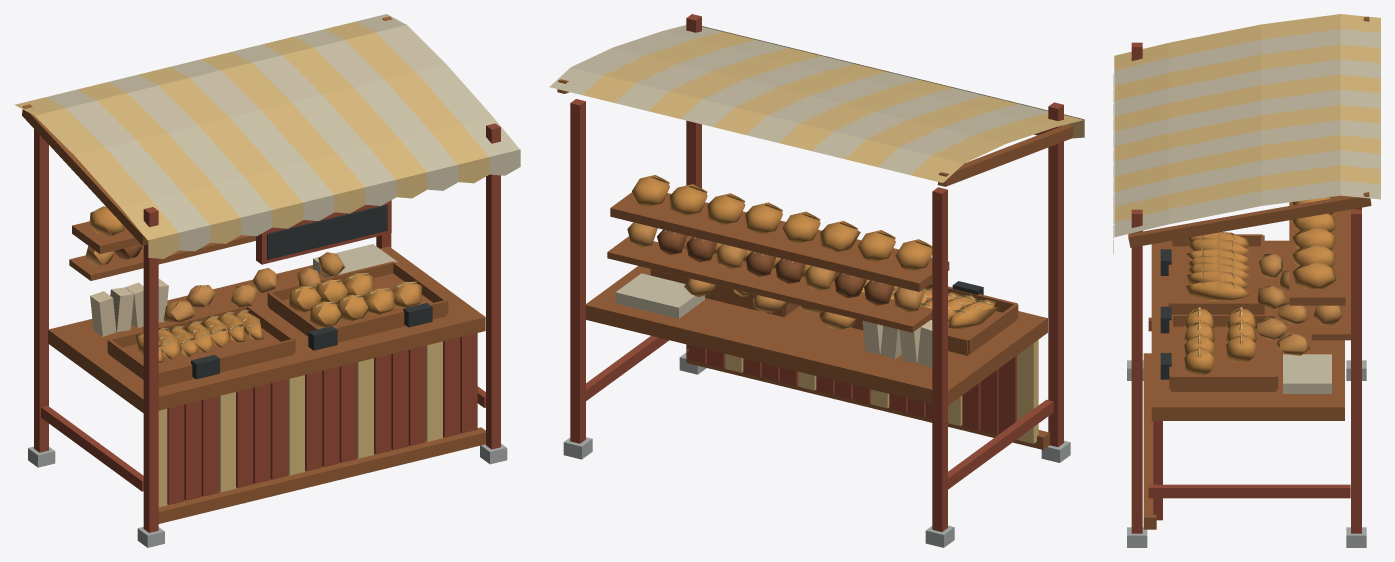
Rendered from baker-mid.glb.
3 views of the same model, side by side, from view 1: azimuth 30°, elevation 25°; view 2: azimuth 150°, elevation 25°; view 3: azimuth 270°, elevation 25° (orthographic). The views are drawn at different scales.
Parts seen in each view (by area): view 1: Baker Market Stall; view 2: Baker Market Stall; view 3: Baker Market Stall.
Boxes of the visible parts, <box> form: Baker Market Stall: <box>14,14,520,547</box>; Baker Market Stall: <box>549,14,1084,547</box>; Baker Market Stall: <box>1113,14,1380,547</box>.
Bounding box in the file's own units: 2.98 × 2.72 × 1.86.
